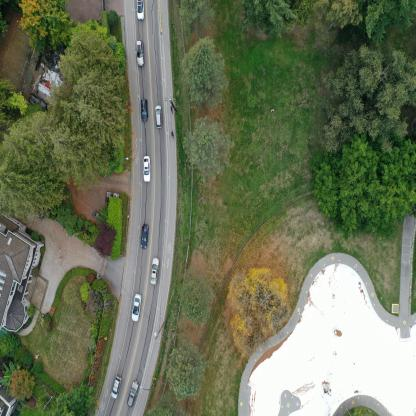Coniferous Tree: (0, 113, 67, 206), (231, 260, 292, 352), (329, 50, 373, 139), (376, 49, 416, 138), (48, 118, 102, 176), (60, 29, 128, 75), (176, 42, 228, 102), (76, 82, 122, 144), (167, 338, 209, 399), (187, 122, 226, 186), (309, 0, 353, 39), (247, 0, 290, 39), (182, 274, 210, 326), (180, 0, 208, 28), (149, 392, 173, 416)
Deciduous Tree: (314, 144, 416, 233), (18, 0, 68, 50)
